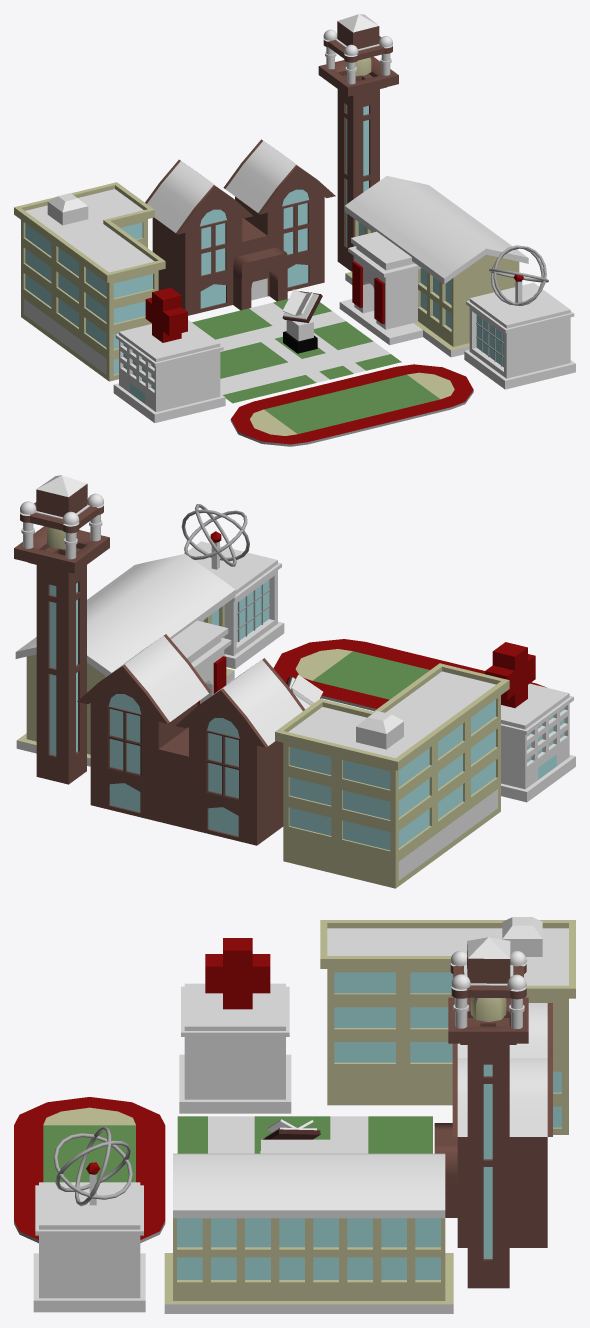
The model's file is School (1).fbx.
3 views of the same model, one above another, from view 1: azimuth 30°, elevation 25°; view 2: azimuth 150°, elevation 25°; view 3: azimuth 270°, elevation 25° (orthographic). The views are drawn at different scales.
Visible parts, largest first — view 1: pCube51 (×2), pCube55, pCube69, Sport, Grass, Lab, pCube73, pCube53, pCube70, pCube58, pCube52 (×2), pSphere7 (+6 smaller); view 2: pCube69, pCube51 (×2), pCube55, pCube53, pCube70, Sport, pCube73, Lab, pCube52 (×2), pSphere7, pCube58, Med (+6 smaller); view 3: pCube55, pCube69, Lab, pCube73, Sport, pCube51 (×2), pCube53, pCube57, Grass, pCube70, pSphere7, Med (+9 smaller).
Boxes of the visible parts, x1=… form: pCube51 (×2): x1=145, y1=139, x2=335, y2=315; pCube55: x1=339, y1=176, x2=528, y2=357; pCube69: x1=14, y1=182, x2=165, y2=381; Sport: x1=230, y1=364, x2=473, y2=446; Grass: x1=192, y1=299, x2=401, y2=403; Lab: x1=464, y1=282, x2=575, y2=389; pCube73: x1=113, y1=320, x2=225, y2=422; pCube53: x1=318, y1=56, x2=398, y2=271; pCube70: x1=25, y1=222, x2=152, y2=374; pCube58: x1=348, y1=231, x2=421, y2=329; pCube52 (×2): x1=200, y1=189, x2=309, y2=308; pSphere7: x1=323, y1=14, x2=392, y2=84; pCube69: x1=275, y1=663, x2=509, y2=888; pCube51 (×2): x1=77, y1=634, x2=304, y2=845; pCube55: x1=15, y1=554, x2=235, y2=766; pCube53: x1=14, y1=526, x2=109, y2=784; pCube70: x1=289, y1=699, x2=495, y2=850; Sport: x1=273, y1=639, x2=546, y2=710; pCube73: x1=501, y1=683, x2=575, y2=802; Lab: x1=184, y1=541, x2=284, y2=668; pCube52 (×2): x1=109, y1=694, x2=239, y2=836; pSphere7: x1=20, y1=475, x2=103, y2=559; pCube58: x1=171, y1=620, x2=231, y2=703; Med: x1=485, y1=642, x2=535, y2=707; pCube55: x1=164, y1=1153, x2=453, y2=1313; pCube69: x1=320, y1=920, x2=575, y2=1134; Lab: x1=33, y1=1182, x2=145, y2=1312; pCube73: x1=179, y1=983, x2=291, y2=1113; Sport: x1=14, y1=1097, x2=165, y2=1243; pCube51 (×2): x1=452, y1=1003, x2=552, y2=1247; pCube53: x1=448, y1=997, x2=528, y2=1288; pCube57: x1=177, y1=1218, x2=440, y2=1279; Grass: x1=177, y1=1116, x2=432, y2=1153; pCube70: x1=334, y1=972, x2=561, y2=1127; pSphere7: x1=450, y1=937, x2=526, y2=1028; Med: x1=205, y1=938, x2=270, y2=1009.
Size of the model in its own units: 166 by 107 by 159.
